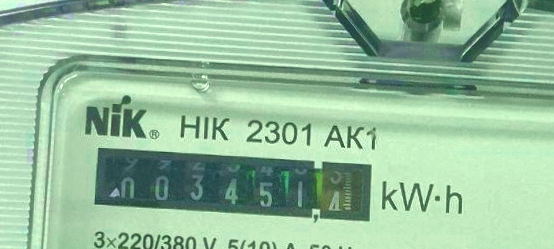0: (151, 173, 170, 202), (116, 173, 136, 200)
1: (291, 178, 307, 209)
3: (186, 171, 205, 202)
4: (220, 175, 240, 208), (323, 187, 343, 215)
5: (256, 178, 273, 209)
screen: (86, 142, 377, 229)
